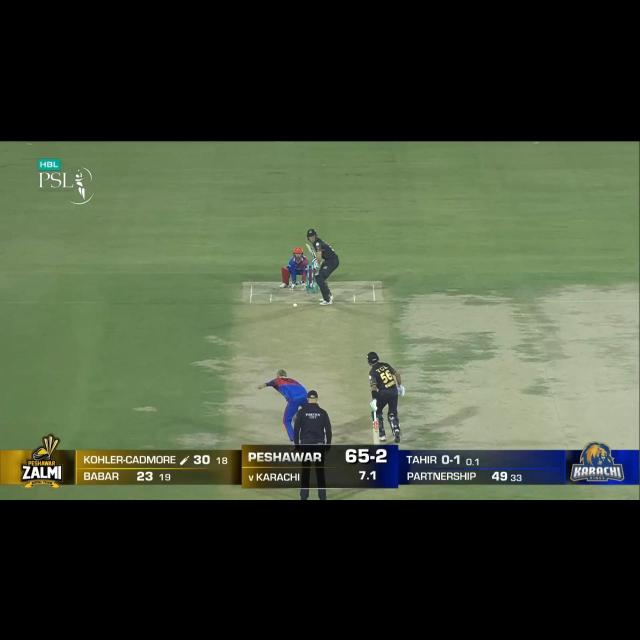bat: (371, 421, 381, 444), (305, 242, 316, 259)
toe: (305, 242, 312, 250), (372, 440, 382, 445)
